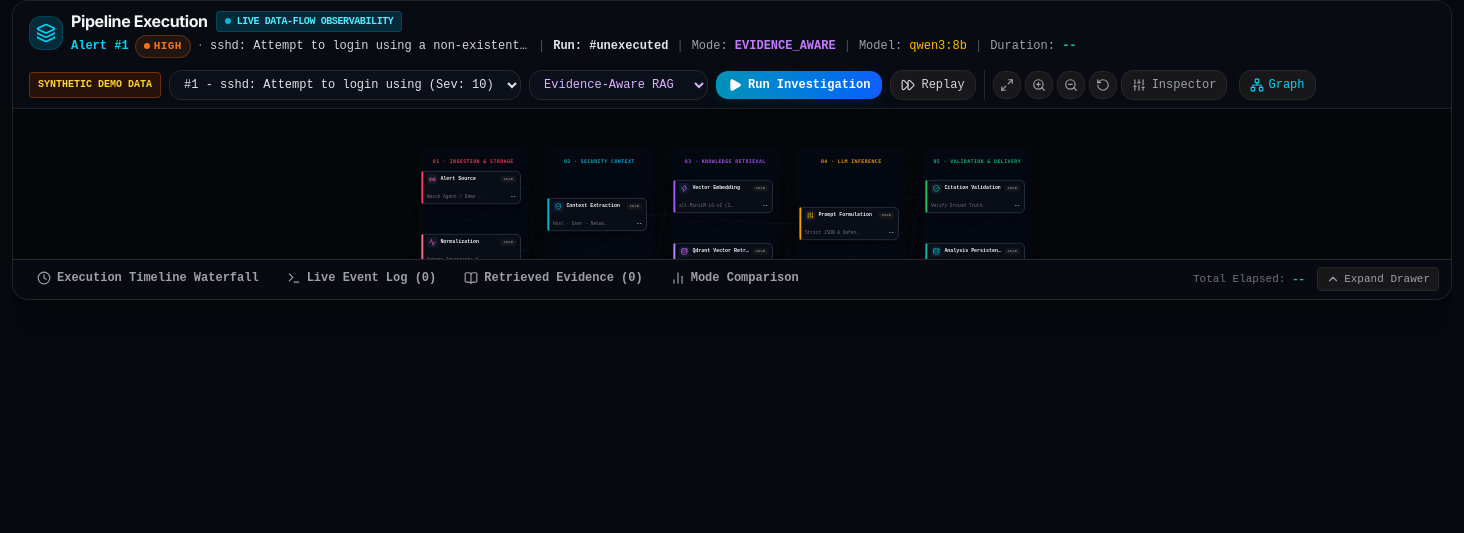
Scenario: ExecutionTracesPage › toggles bottom drawer expand and collapse
The image size is (1464, 533).
Expected: the text "Expand Drawer" is shown, [1344,272,1430,286]
Click the button "Expand Drawer". click: (1378, 279)
box: [1317,267,1439,292]
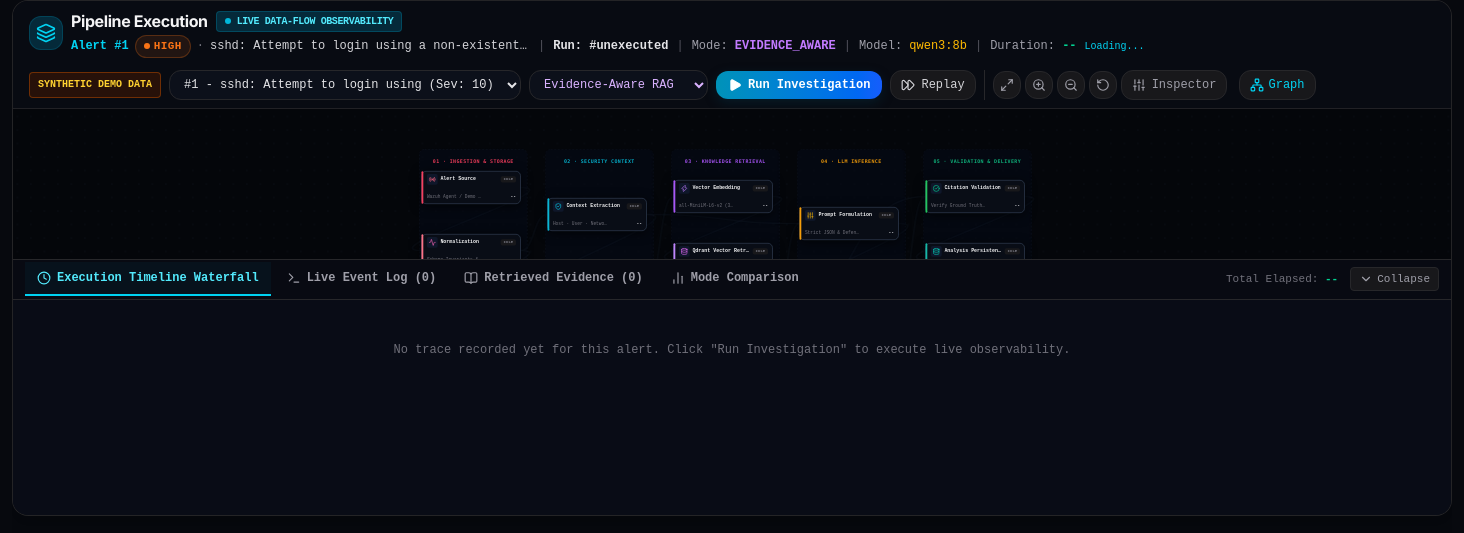
Expected: the text "Collapse" is shown, [1377,272,1430,286]
Click the button "Collapse". click: (1395, 279)
box: [1350,267,1439,292]
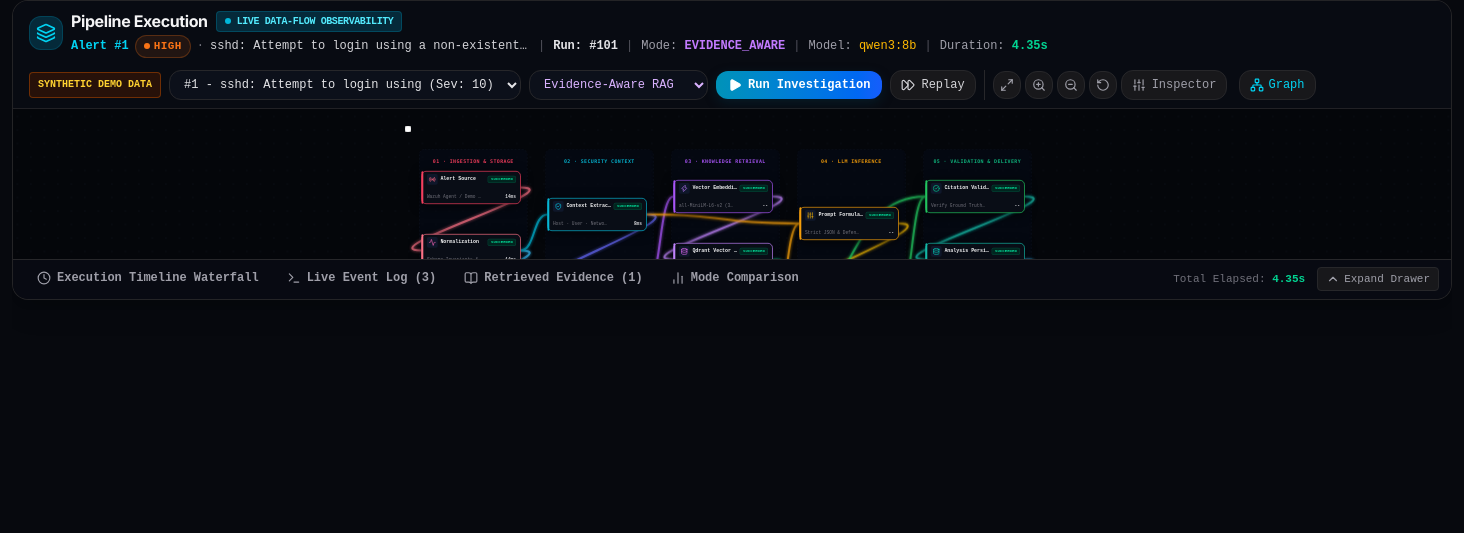
Expected: the text "Expand Drawer" is shown, [1344,272,1430,286]
